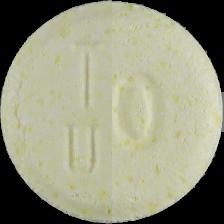0093-5246: (0, 0, 224, 224)
